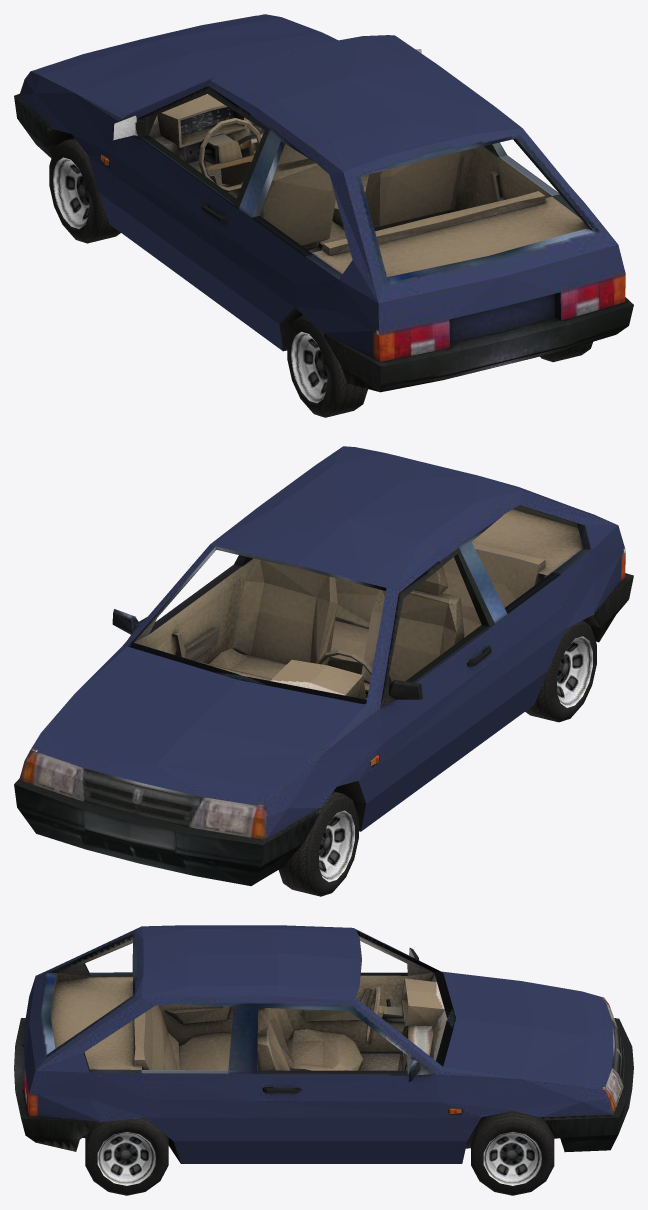
The model's file is car_vaz.glb.
The picture shows the model from 3 angles, top to bottom: view 1: azimuth 30°, elevation 25°; view 2: azimuth 150°, elevation 25°; view 3: azimuth 270°, elevation 25°; orthographic projection. The views are drawn at different scales.
Visible parts, largest first — view 1: kuzov, vod_dv, kapot, seats_zad, panel, wheel1, wheel, seats_fron1, steer; view 2: kuzov, kapot, vod_dv, seats_fron, seats_fron1, wheel, wheel1, panel, seats_zad, ruk_pov; view 3: kuzov, kapot, wheel3, wheel2, vod_dv, seats_fron1, panel, seats_fron, seats_zad, ruk_pov, steer.
Part boxes in pixels (<box>): kuzov: <box>14,14,633,392</box>; vod_dv: <box>112,86,270,319</box>; kapot: <box>37,15,332,114</box>; seats_zad: <box>260,144,464,250</box>; panel: <box>149,94,346,248</box>; wheel1: <box>287,315,367,417</box>; wheel: <box>49,138,120,243</box>; seats_fron1: <box>323,191,545,255</box>; steer: <box>198,118,261,192</box>; kuzov: <box>14,446,633,885</box>; kapot: <box>37,647,365,805</box>; vod_dv: <box>380,546,501,816</box>; seats_fron: <box>209,558,456,699</box>; seats_fron1: <box>330,542,544,662</box>; wheel: <box>278,791,358,896</box>; wheel1: <box>525,620,596,722</box>; panel: <box>195,659,368,699</box>; seats_zad: <box>234,566,464,665</box>; ruk_pov: <box>172,627,378,765</box>; kuzov: <box>14,925,633,1163</box>; kapot: <box>443,972,613,1087</box>; wheel3: <box>471,1110,554,1195</box>; wheel2: <box>85,1117,168,1195</box>; vod_dv: <box>285,936,433,1052</box>; seats_fron1: <box>134,1005,231,1070</box>; panel: <box>345,973,447,1070</box>; seats_fron: <box>264,1008,352,1070</box>; seats_zad: <box>257,1007,362,1070</box>; ruk_pov: <box>164,1006,461,1114</box>; steer: <box>365,986,383,1044</box>.
Bounding box in the file's own units: 181 × 132 × 386.
Materials: 1 (1 with a texture image).
